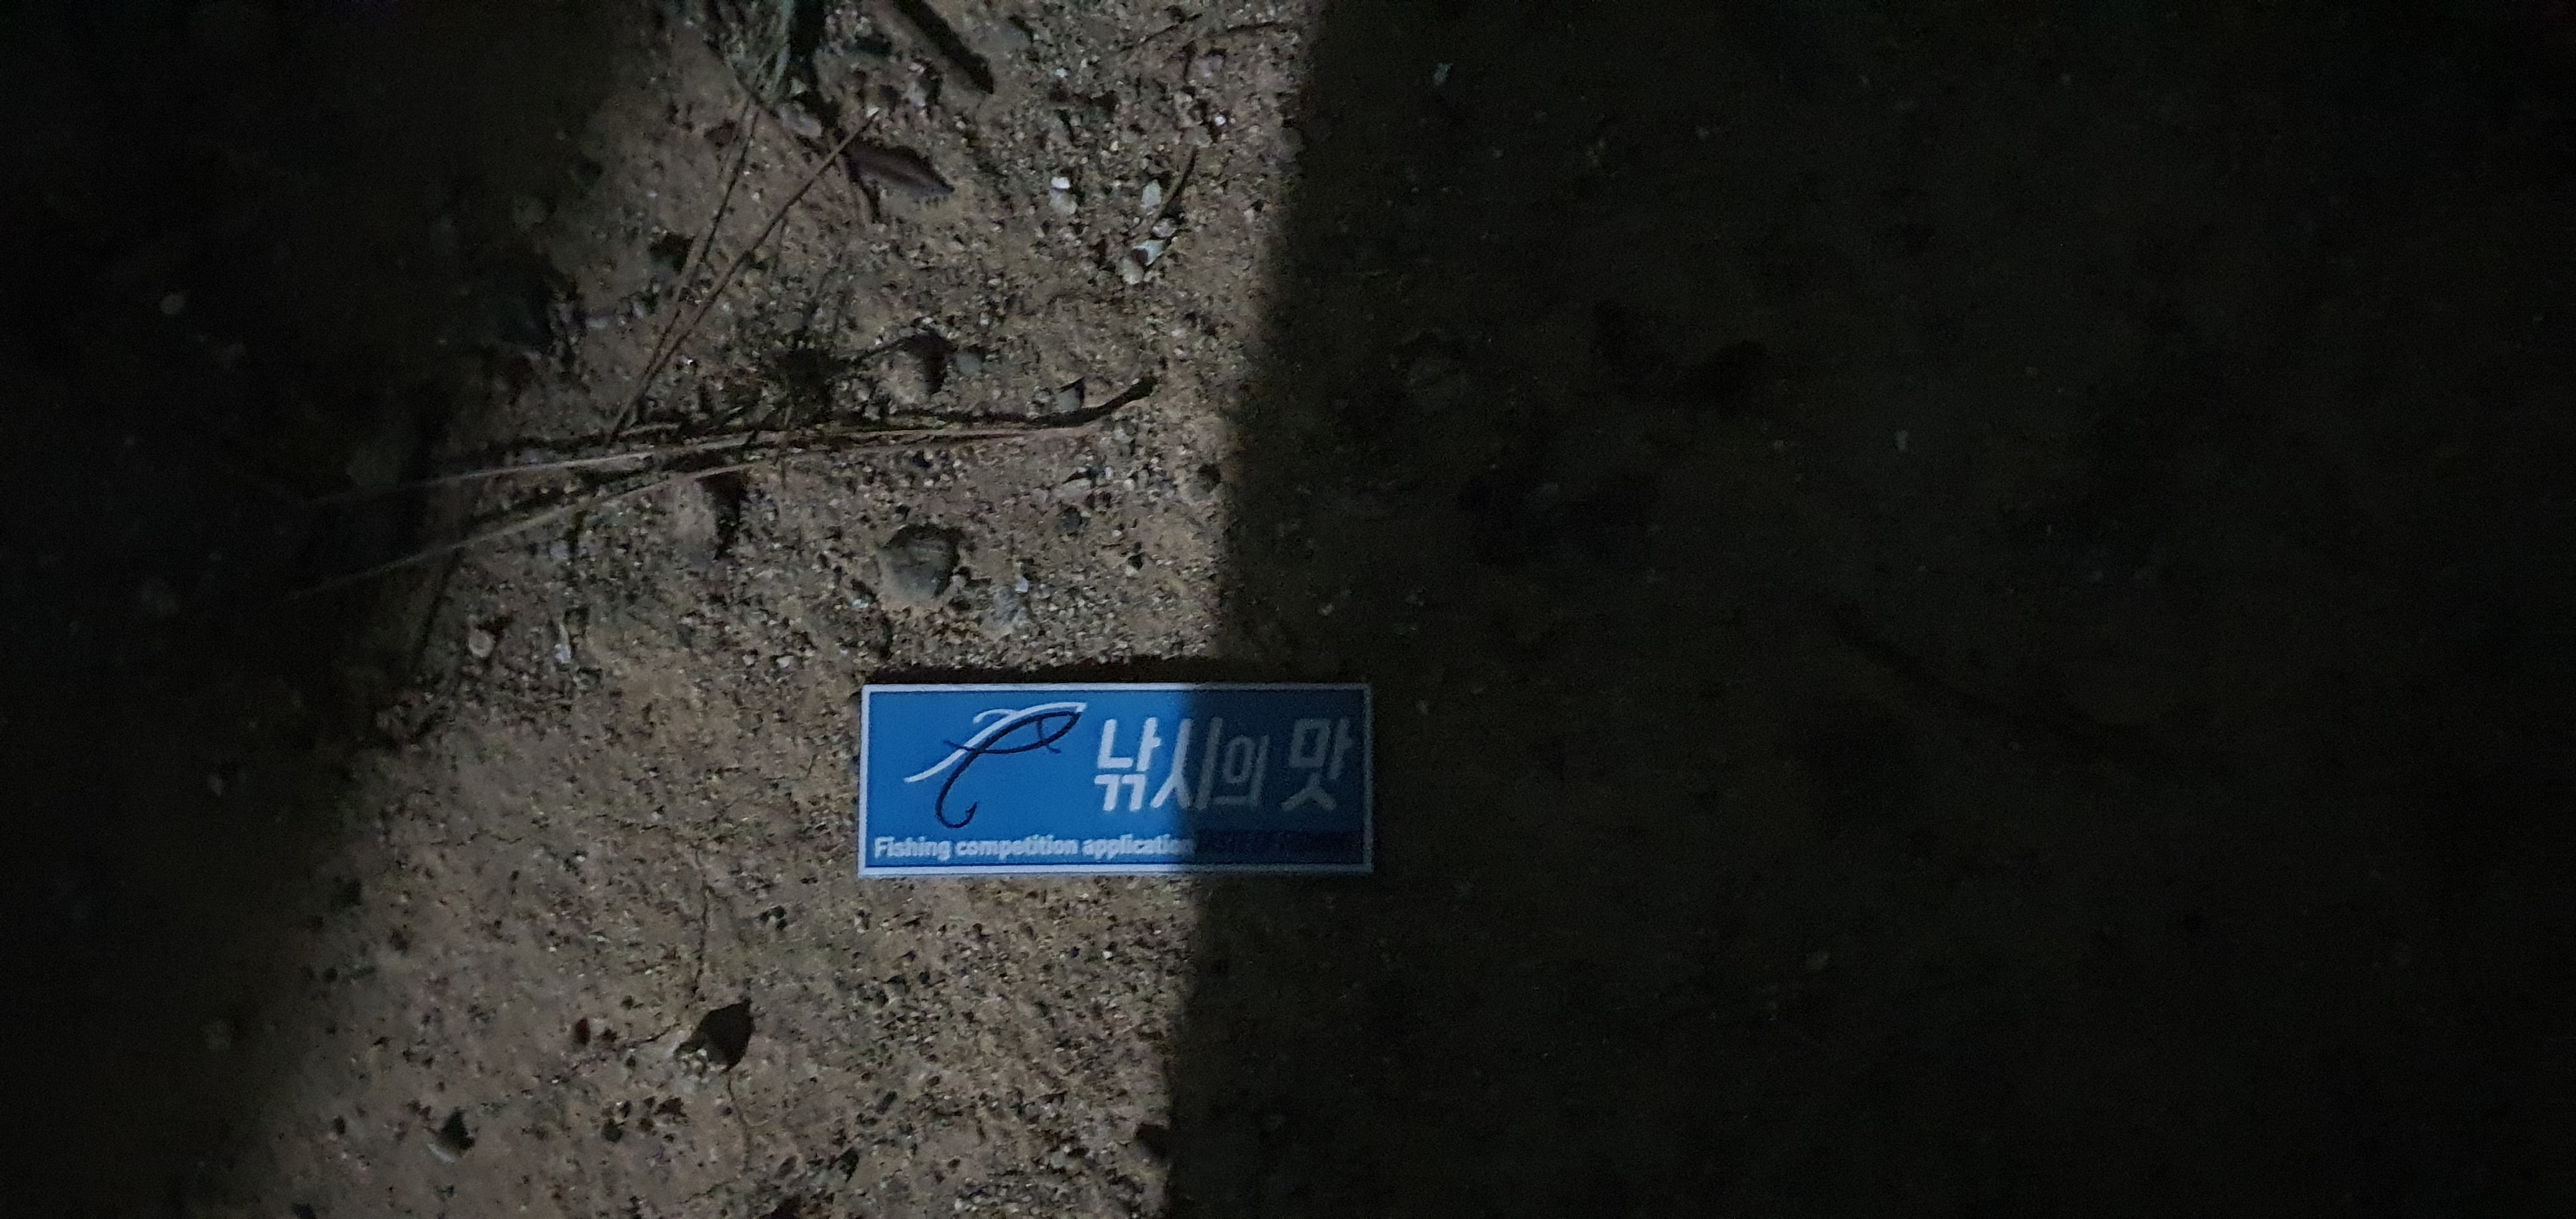tag: (867, 682, 1372, 881)
